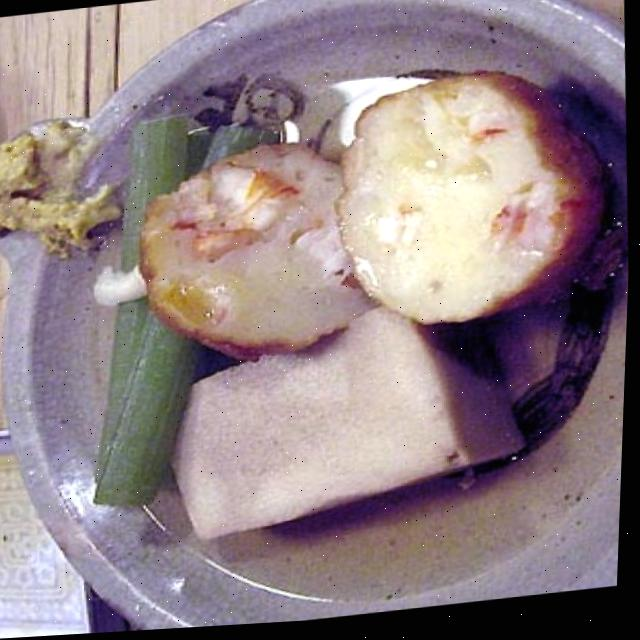汤锅炖物: (71, 56, 619, 549)
